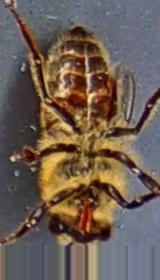varroa_mite: (98, 66, 119, 96)
